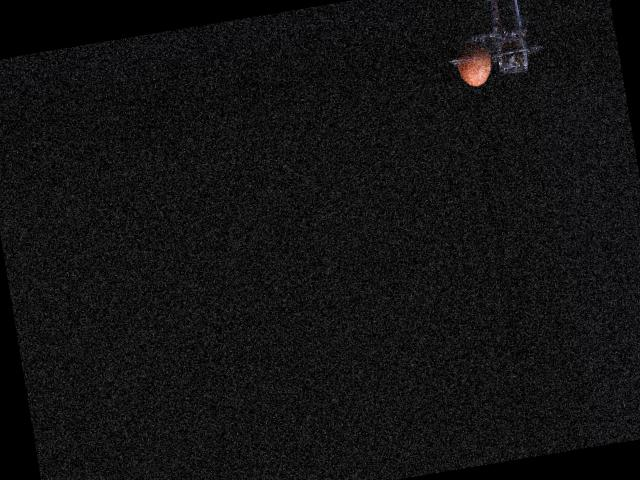egg: (452, 38, 493, 88)
